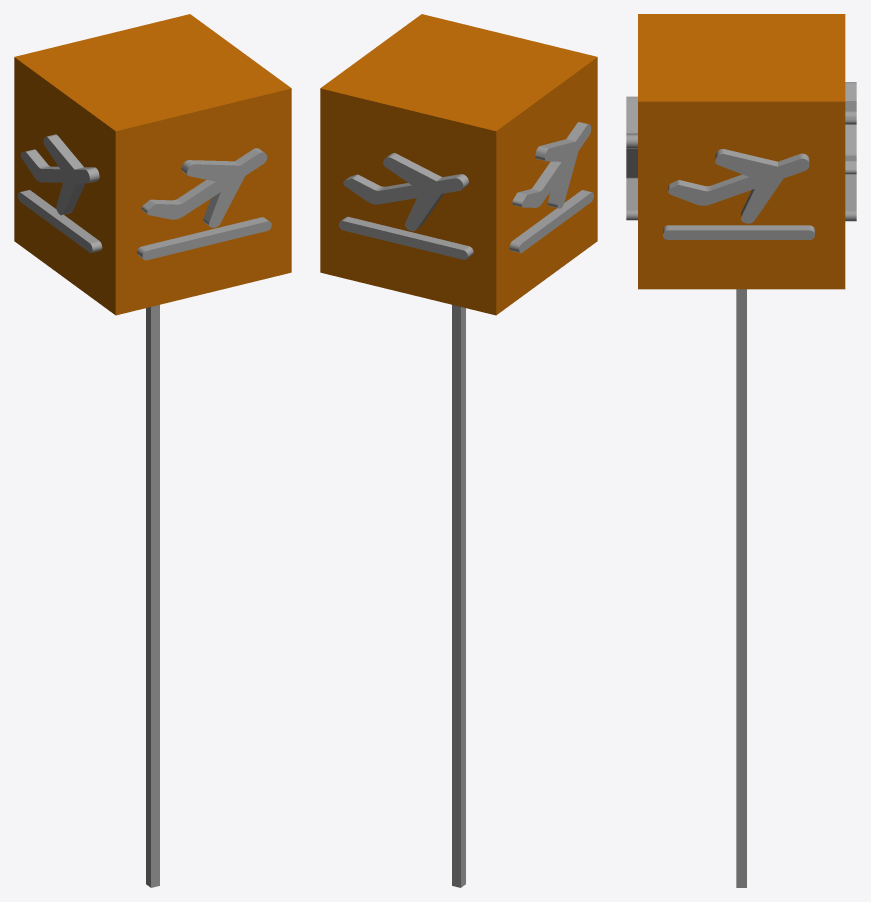
File: departures.obj
3 renders of one model, left to right at view 1: azimuth 30°, elevation 25°; view 2: azimuth 150°, elevation 25°; view 3: azimuth 270°, elevation 25°, orthographic.
Size of the model in its own units: 2.23 by 8.82 by 2.23.
